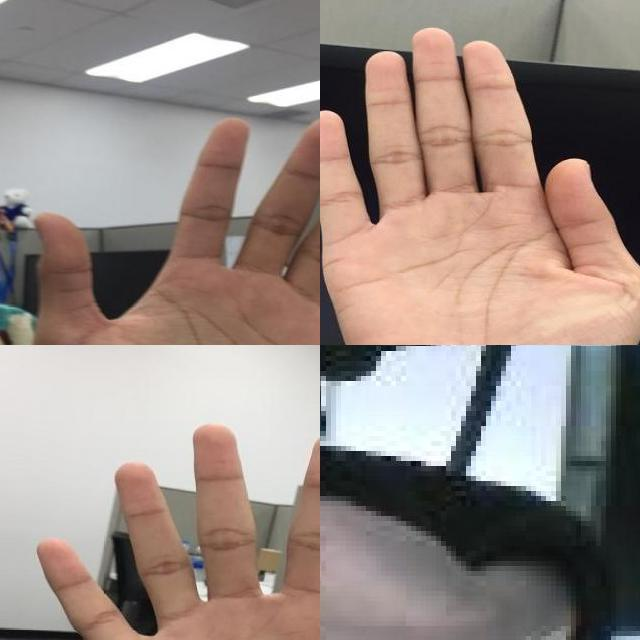hand: (320, 21, 640, 345), (29, 119, 320, 345), (34, 426, 320, 640), (320, 456, 491, 640)
